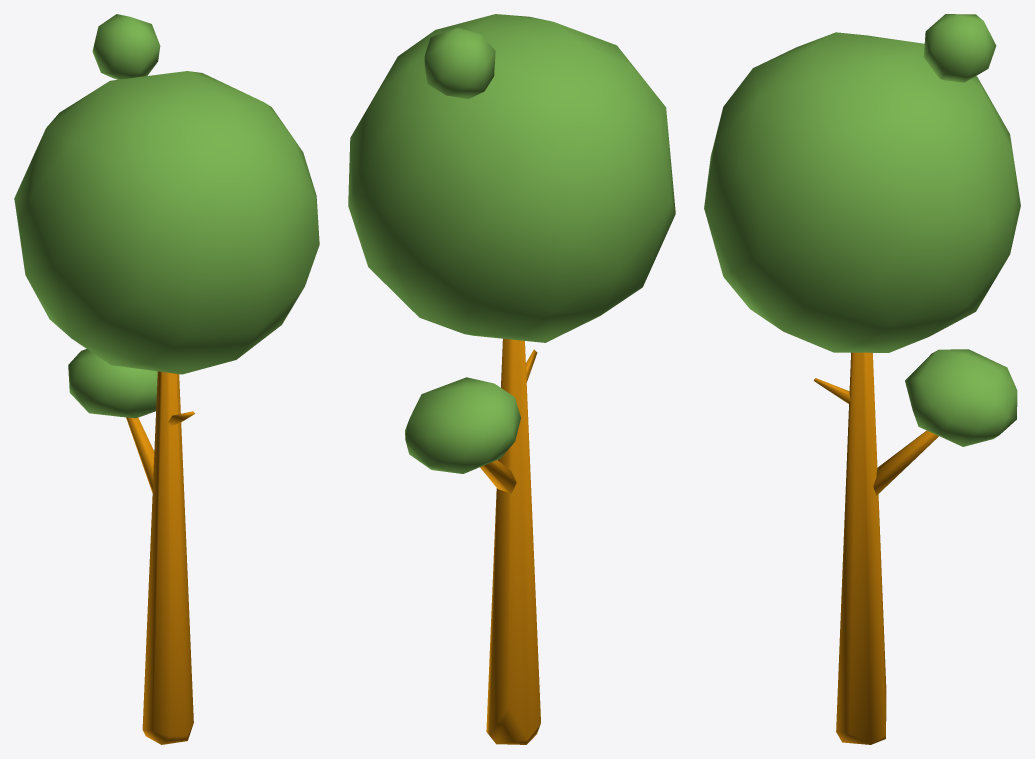
Rendered from Tree_2.fbx.
3 renders of one model, left to right at view 1: azimuth 30°, elevation 25°; view 2: azimuth 150°, elevation 25°; view 3: azimuth 270°, elevation 25°, orthographic. The views are drawn at different scales.
Visible parts, largest first — view 1: Tree_2; view 2: Tree_2; view 3: Tree_2.
Part boxes in pixels (x1,y1,x2,y2): Tree_2: [14, 14, 319, 744]; Tree_2: [348, 14, 675, 744]; Tree_2: [704, 14, 1020, 744].
Size of the model in its own units: 424 by 1070 by 424.
